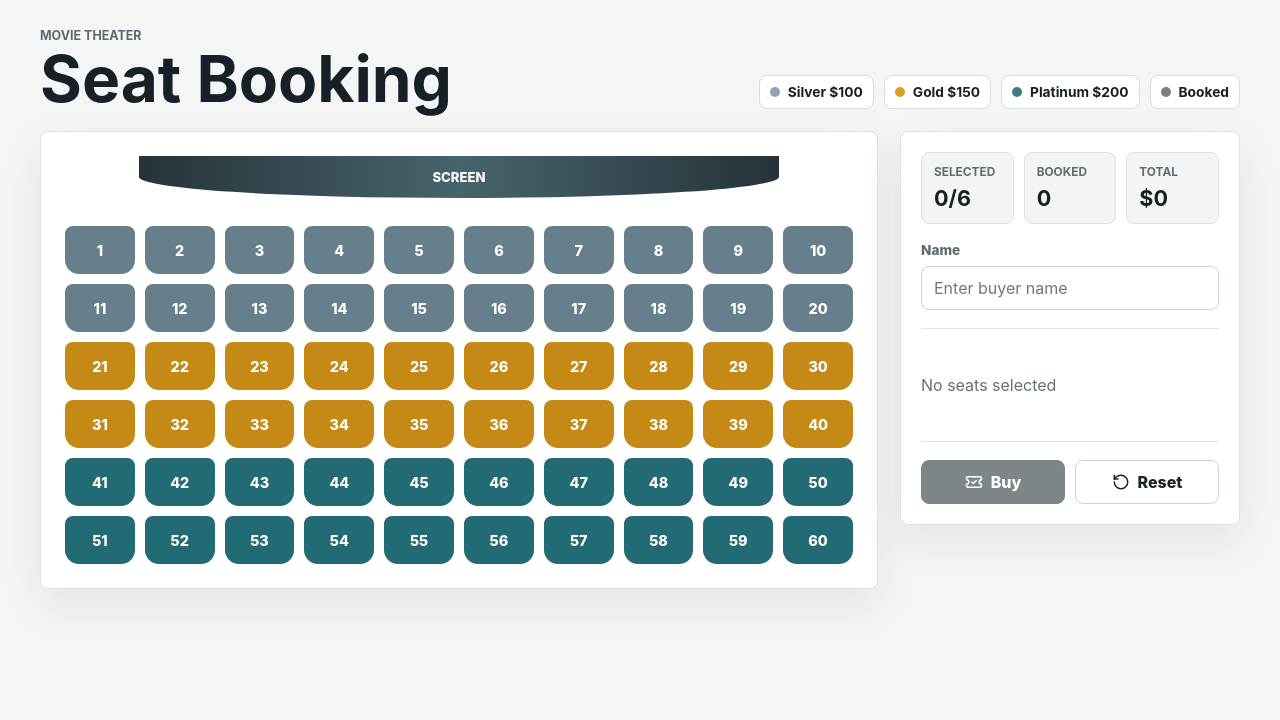
Test: App › calculates total price and books selected seats
Click the cell named "seat 15" at (419, 308), box [384,284,454,332]
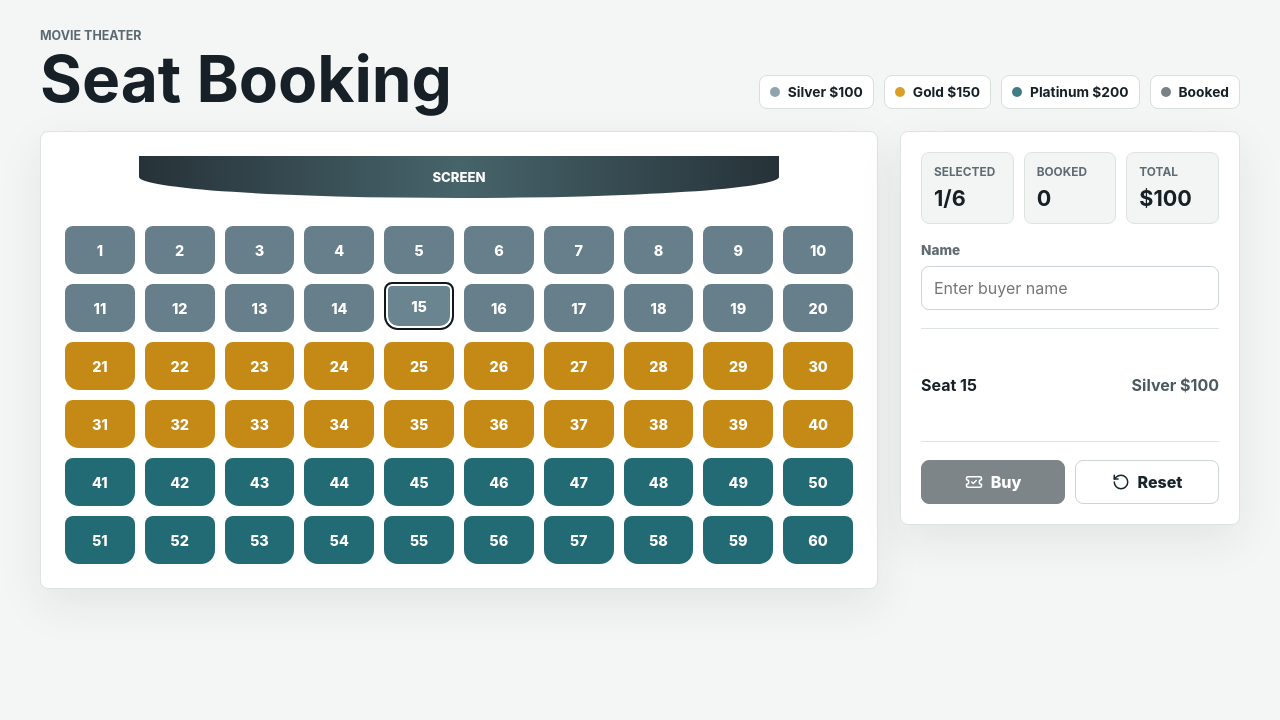
Click the cell named "seat 35" at (419, 424), box [384,400,454,448]
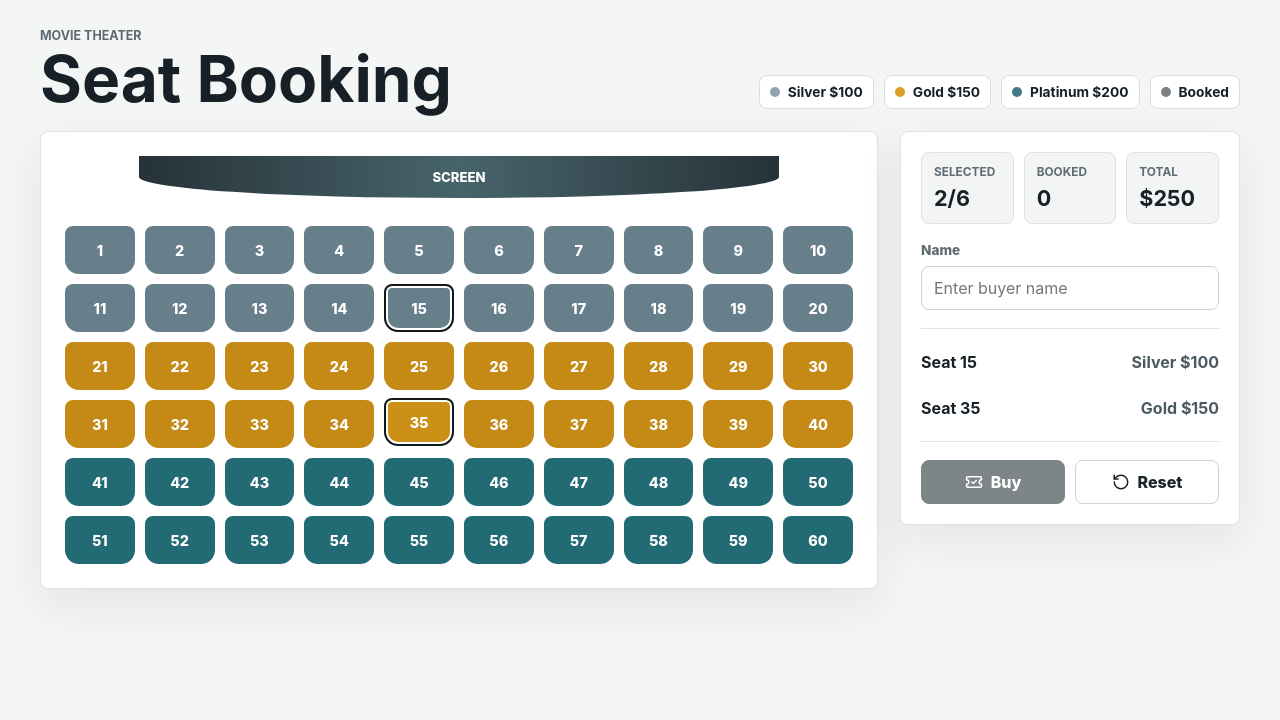
Type "Ada" into the field named "user name" at (1070, 288), box [921,266,1219,310]
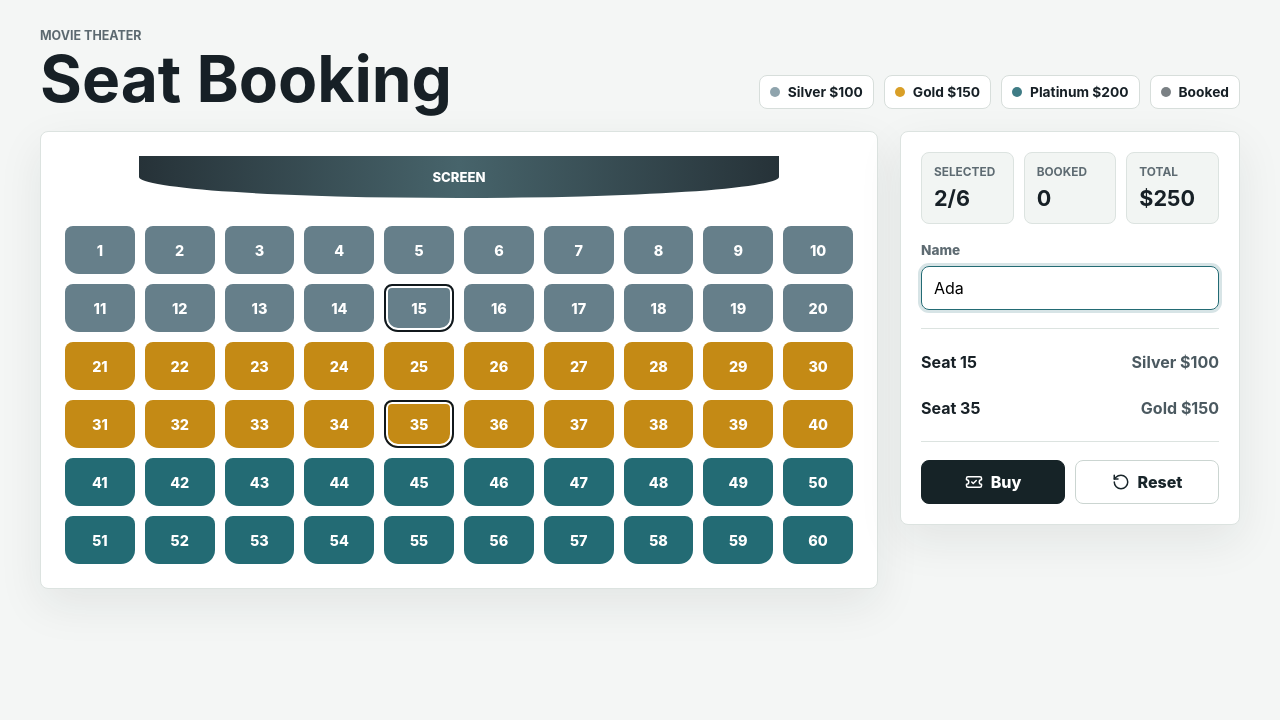
Check: the text "$250" is shown, box [1139,185,1195,211]
Click the button "Buy" at (993, 482), box [921,460,1065,504]
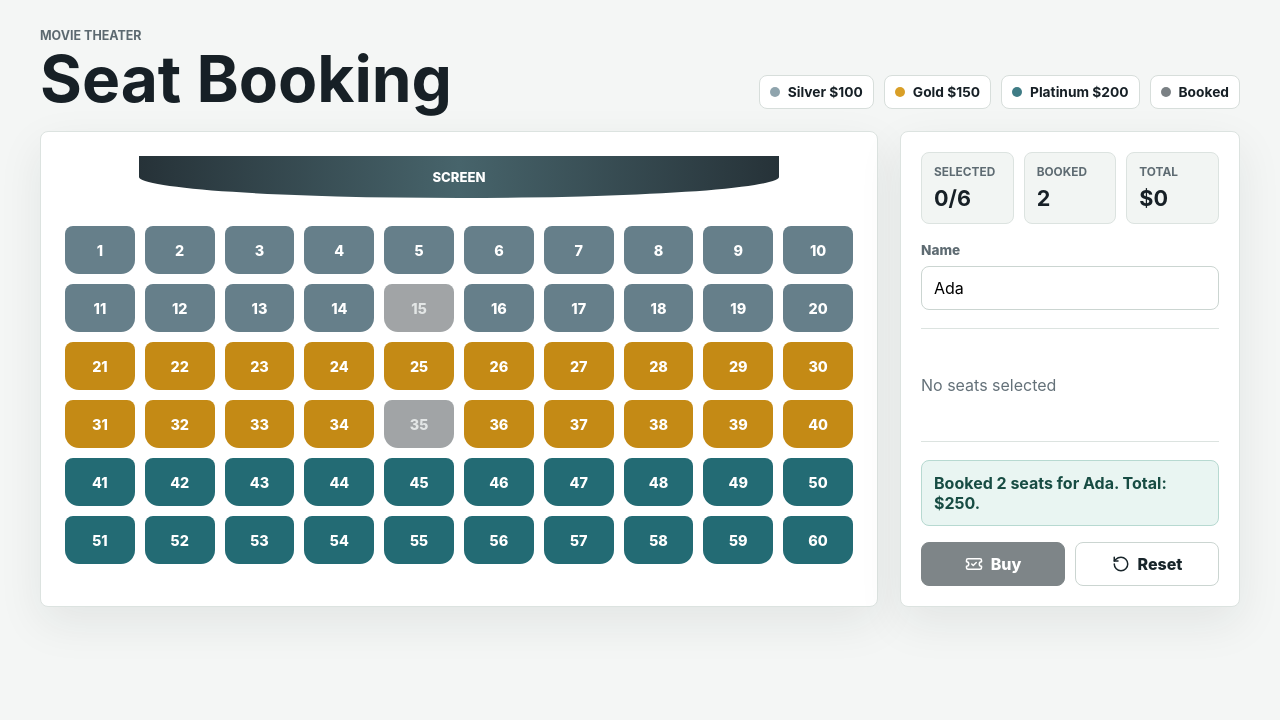
Check: the text "Booked 2 seats for Ada. Total: $250." is shown, box [921,460,1219,526]
